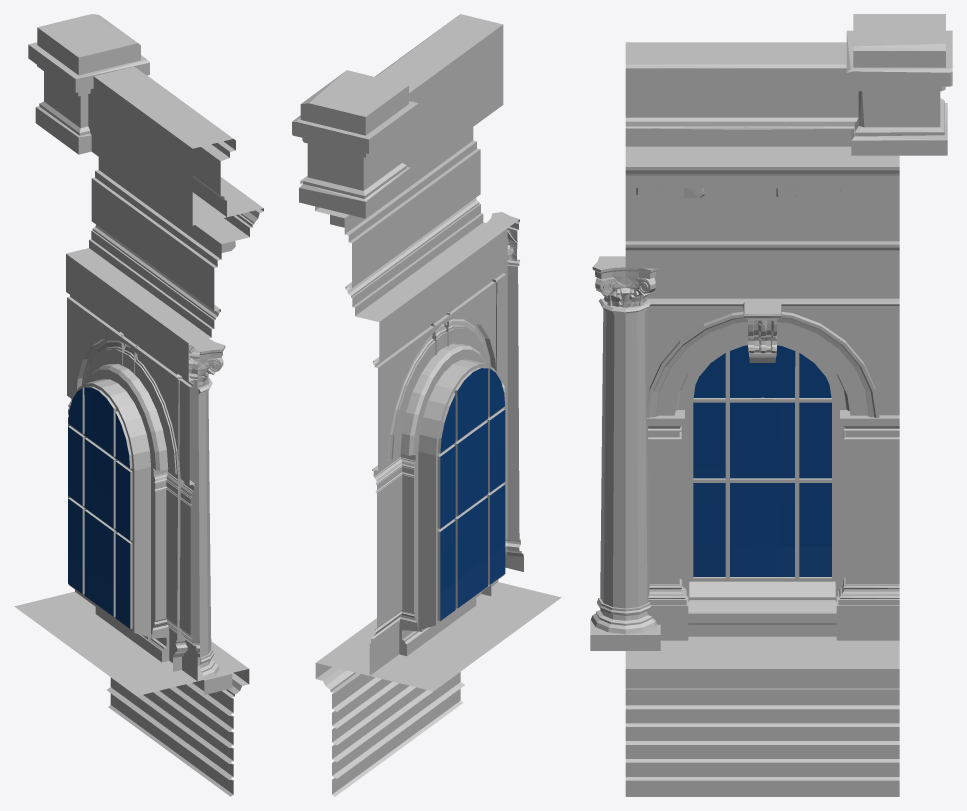
File: Bank_Window00.fbx
3 renders of one model, left to right at view 1: azimuth 30°, elevation 25°; view 2: azimuth 150°, elevation 25°; view 3: azimuth 270°, elevation 25°, orthographic. The views are drawn at different scales.
Parts seen in each view (by area): view 1: SM_Bank_Window_02a.mo; view 2: SM_Bank_Window_02a.mo; view 3: SM_Bank_Window_02a.mo.
Part boxes in pixels (x1,y1,x2,y2): SM_Bank_Window_02a.mo: [14, 14, 263, 796]; SM_Bank_Window_02a.mo: [292, 14, 561, 796]; SM_Bank_Window_02a.mo: [590, 14, 952, 796].
Bounding box in the file's own units: 239 × 1217 × 529.
